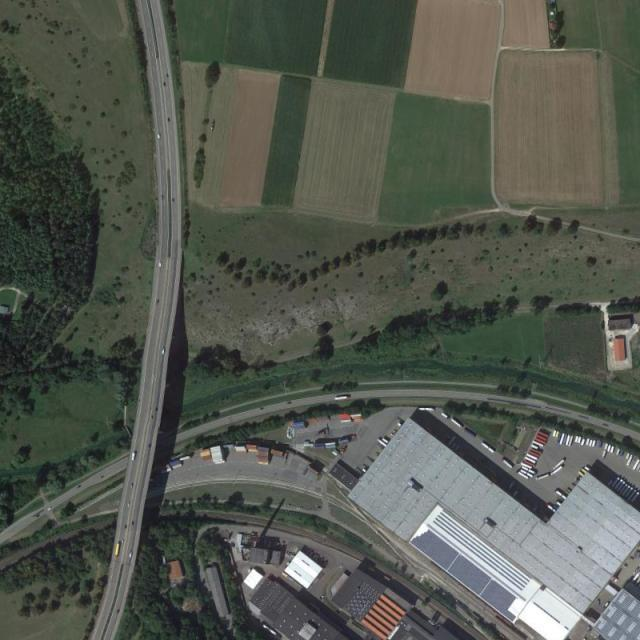vehicle: (480, 442, 495, 454), (464, 427, 478, 439), (553, 459, 566, 471), (502, 457, 514, 470), (550, 466, 563, 477), (451, 419, 464, 430), (418, 406, 438, 412), (535, 474, 550, 481), (335, 396, 351, 401), (115, 543, 120, 558), (131, 450, 136, 462)
